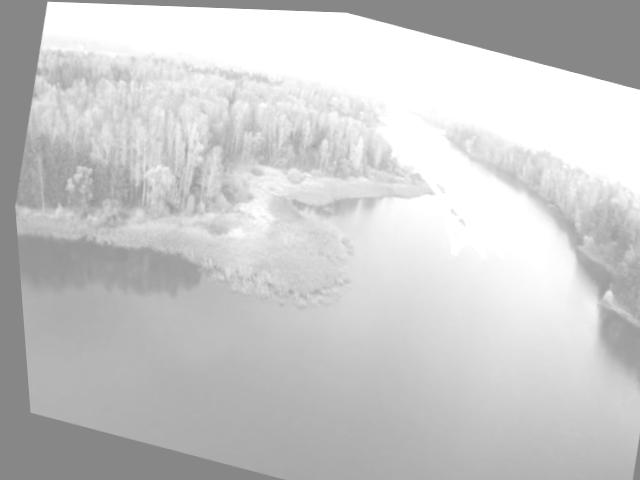hedef: (389, 158, 525, 273)
